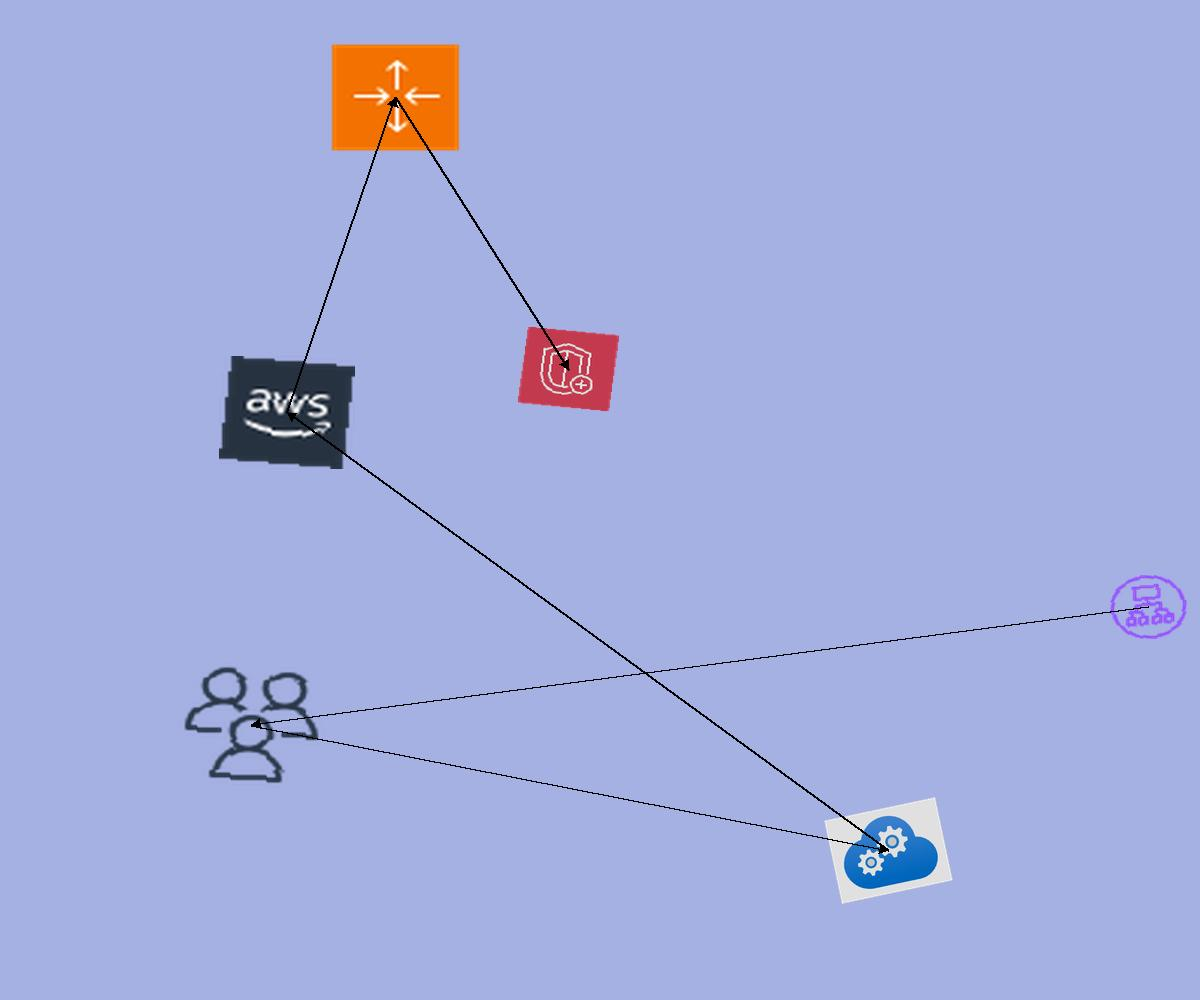AWS-Cloud-logo: (219, 356, 355, 469)
AWS-Res_Elastic-Load-Balancing_Application-Load-Balancer: (1102, 568, 1195, 646)
AWS-Res_Users: (173, 660, 330, 790)
AWS-Scaling-group: (329, 42, 462, 153)
AWS-Shield: (517, 326, 620, 412)
Azure_cloud_services: (824, 797, 953, 904)
